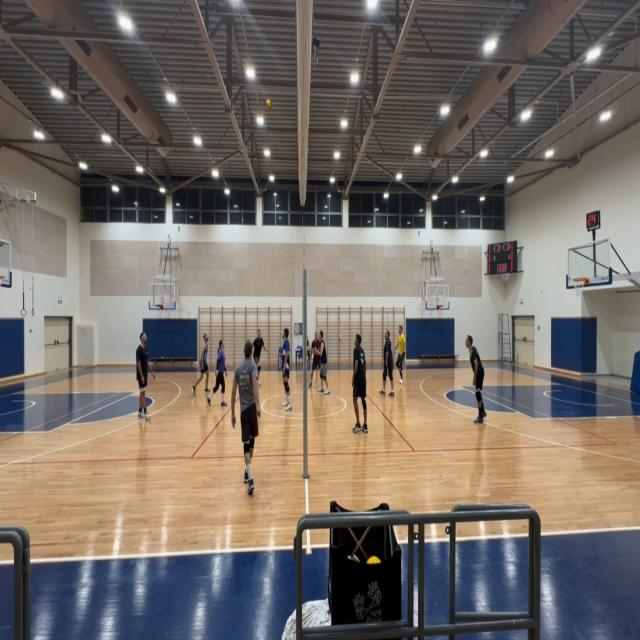volleyball: (266, 98, 272, 110)
